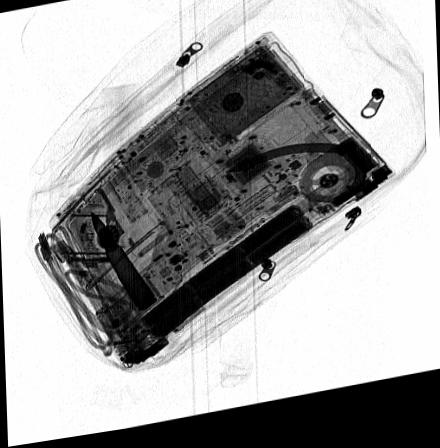Bullet: (89, 212, 159, 318)
